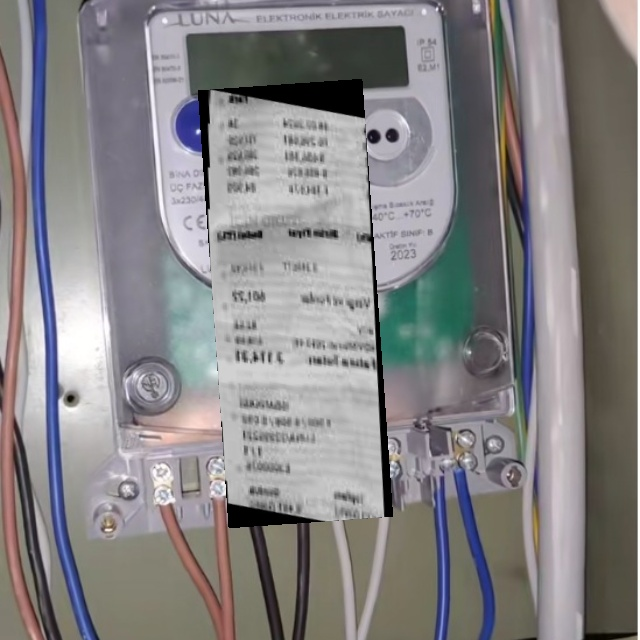electricity-bill: (198, 79, 393, 528)
